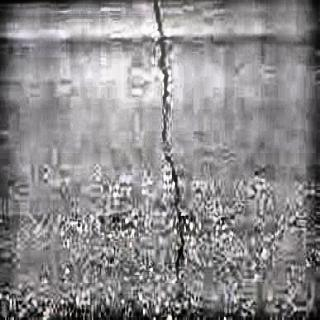crack: (149, 2, 191, 320)
